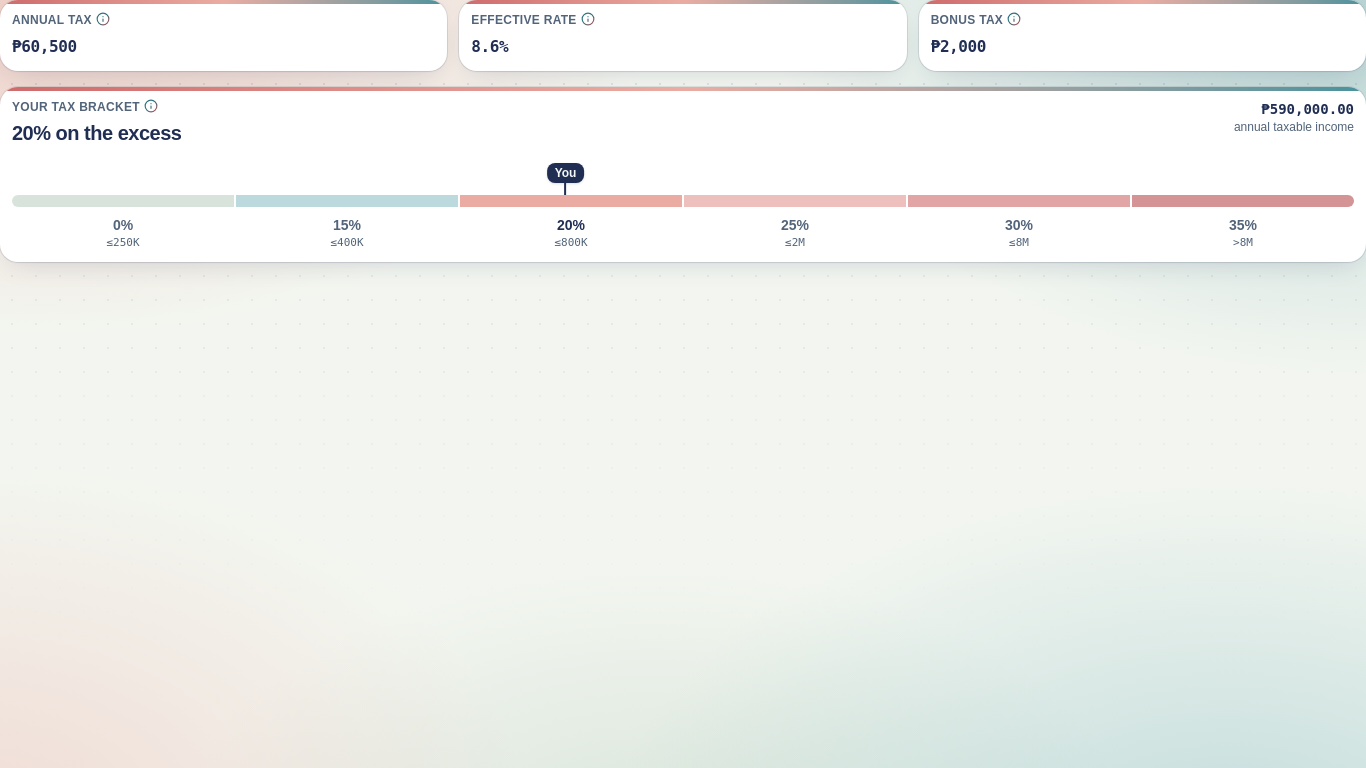
Scenario: AnnualInsights: a salary › explains the bonus tax with the exempt amount
Click the button named "More about Bonus tax" at (1014,19), box [1007,12,1021,26]
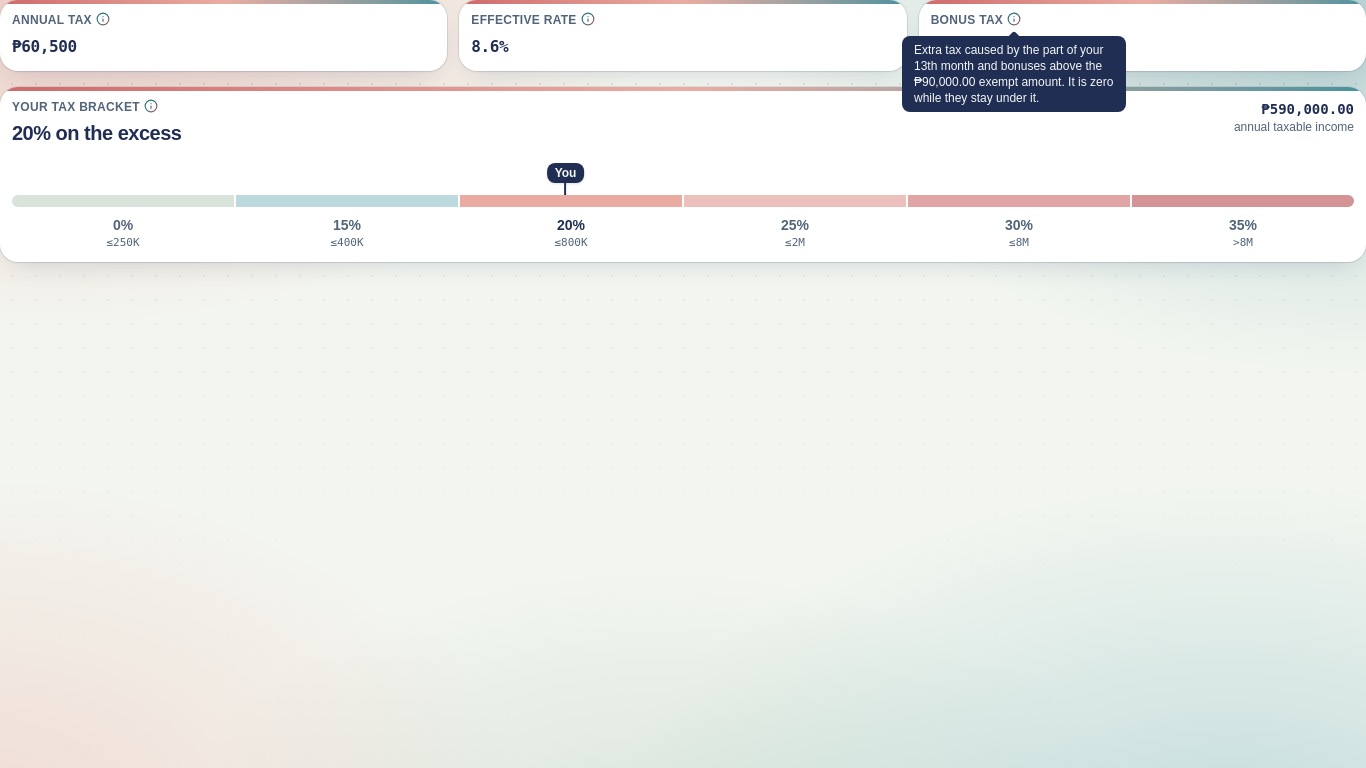
Expected: the tooltip shows "above the ₱90,000.00 exempt amount", [914,43,1114,105]
